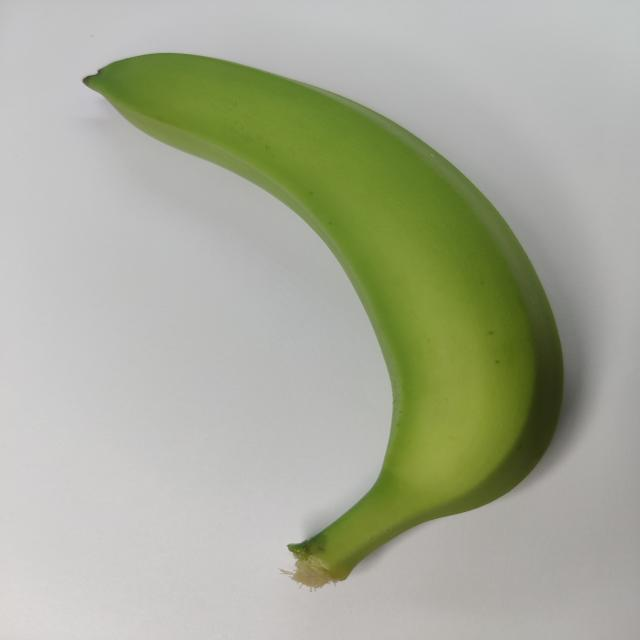raw: (51, 34, 569, 613)
